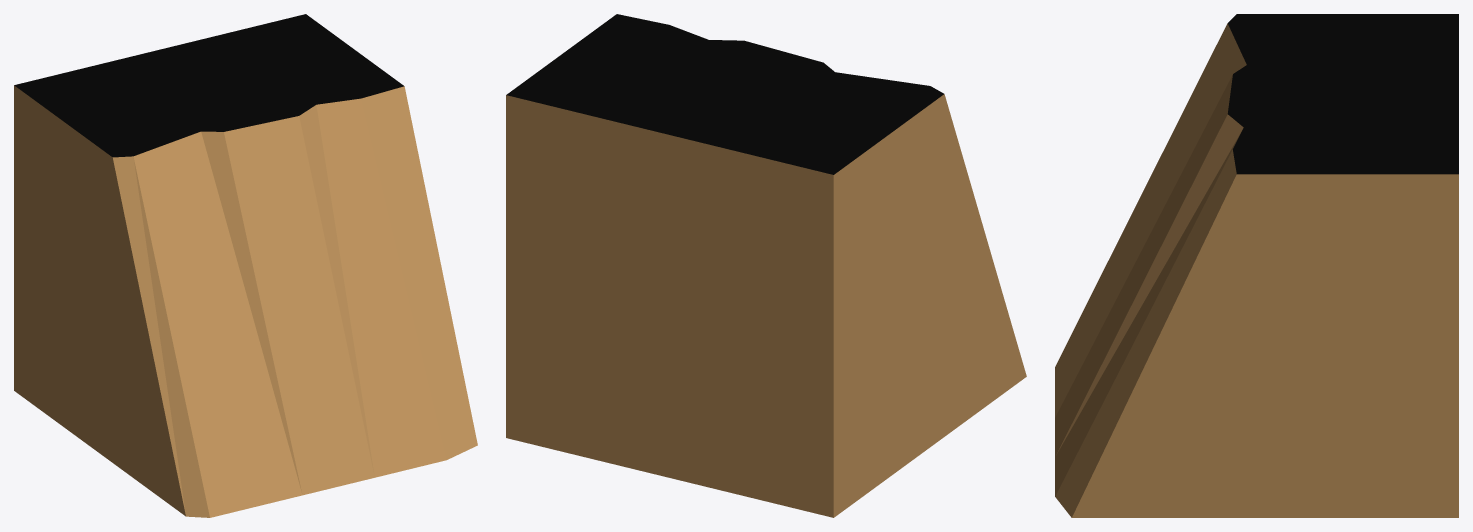
The model's file is Model_Desert_Slope_3SLTR_LRS_1.fbx.
3 views of the same model, side by side, from view 1: azimuth 30°, elevation 25°; view 2: azimuth 150°, elevation 25°; view 3: azimuth 270°, elevation 25° (orthographic). The views are drawn at different scales.
Parts seen in each view (by area): view 1: Model_Frost_Obstacle1; view 2: Model_Frost_Obstacle1; view 3: Model_Frost_Obstacle1.
Part boxes in pixels (box(x1,y1,x2,y2)): Model_Frost_Obstacle1: box(14, 14, 477, 517); Model_Frost_Obstacle1: box(506, 14, 1026, 517); Model_Frost_Obstacle1: box(1055, 14, 1458, 517).
Size of the model in its own units: 200 by 200 by 213.
2 materials, 1 textured.
